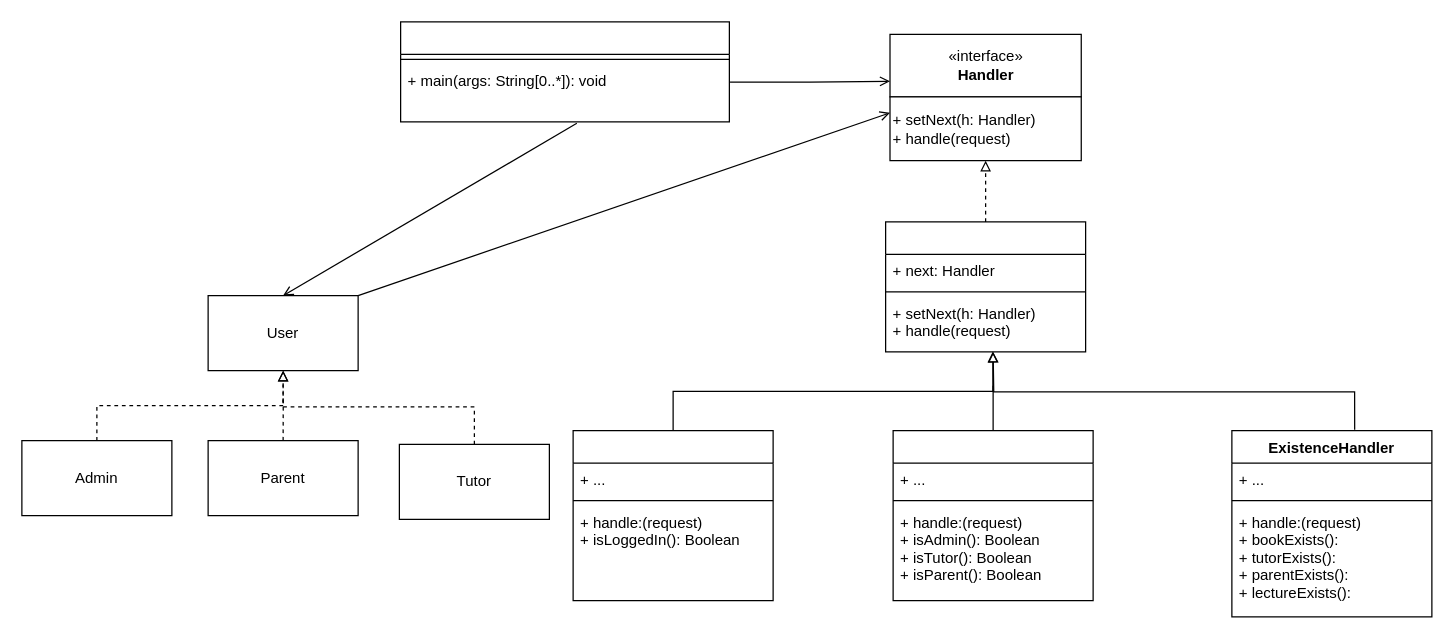
This 1454x643 diagram has some shape labels left out. The box of each missing label's shape, as (x1, y1, x2, y2) in pixels:
AuthenticationHandler: (572, 429, 773, 601)
AuthorizationHandler: (892, 429, 1093, 601)
BaseHandler: (884, 221, 1086, 352)
TutorFinder: (399, 21, 729, 122)
